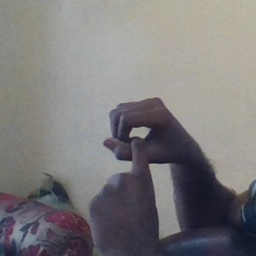Q: (86, 95, 178, 230)
